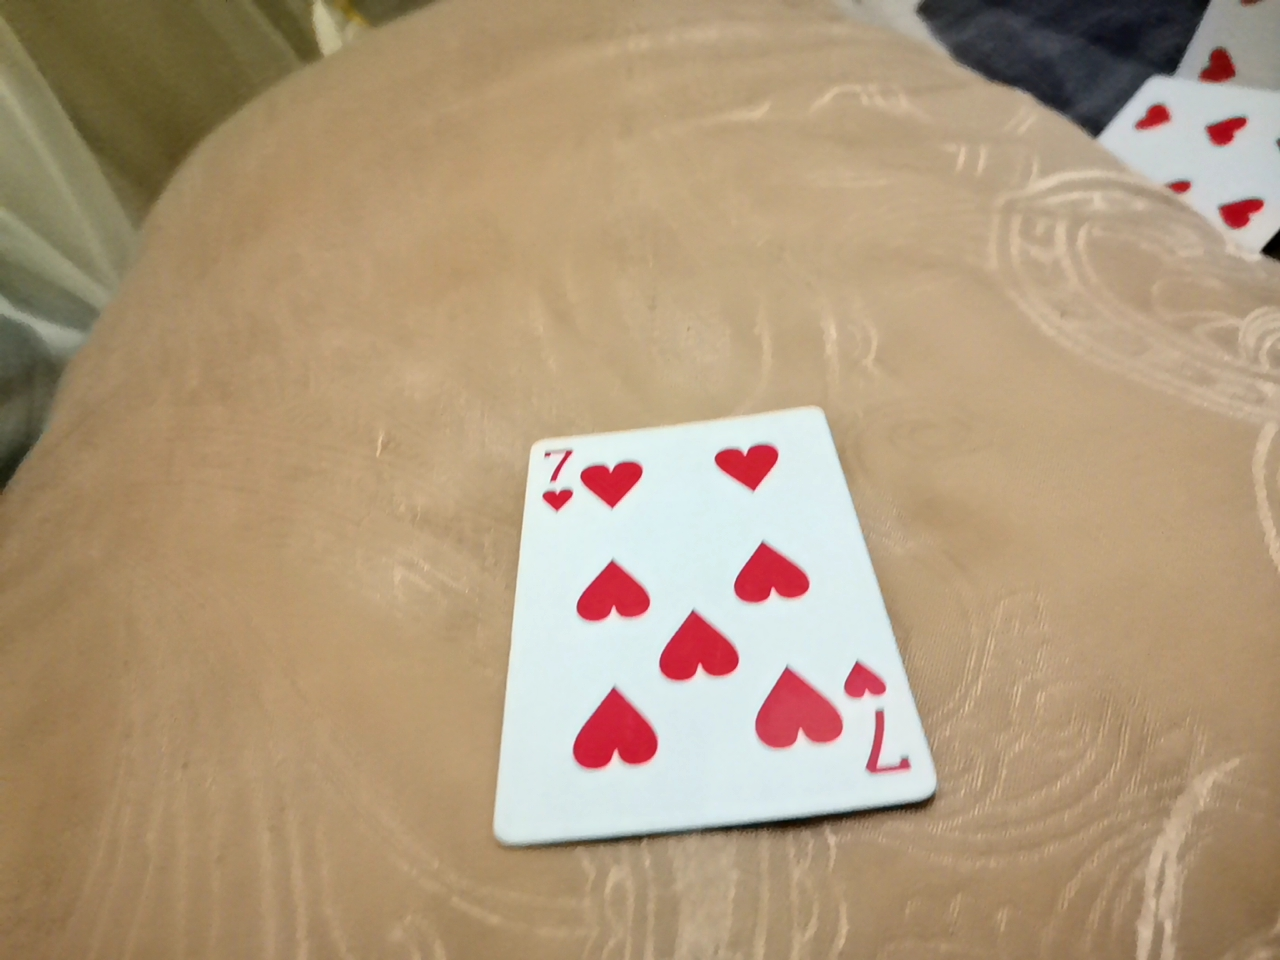hx 7: (491, 372, 926, 834)
